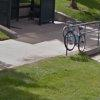Bicycle: (60, 17, 86, 52)
